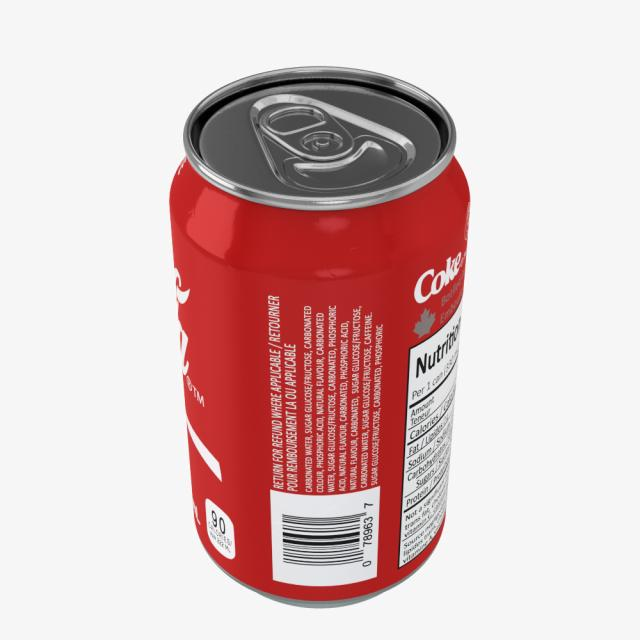non-organic waste: (154, 35, 495, 616)
